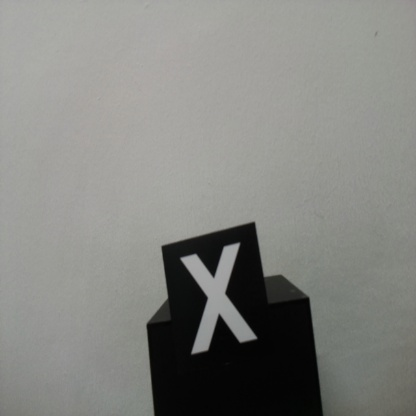id_13: (161, 241, 270, 364)
